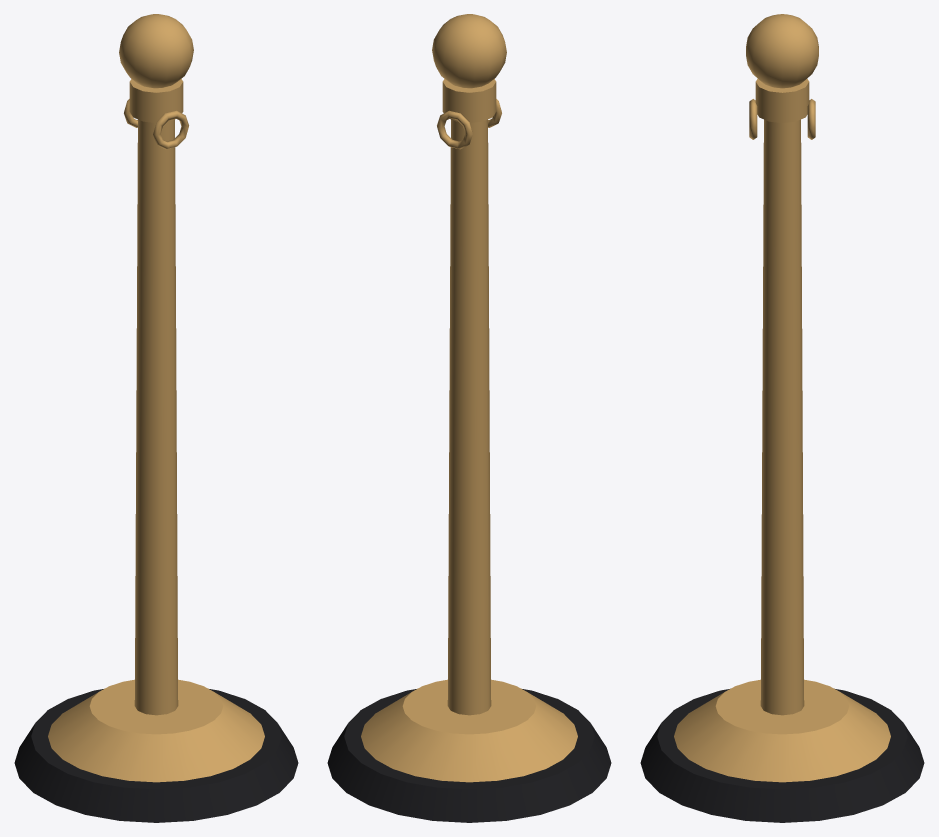
Rendered from stanchion.glb.
3 views of the same model, side by side, from view 1: azimuth 30°, elevation 25°; view 2: azimuth 150°, elevation 25°; view 3: azimuth 270°, elevation 25° (orthographic).
Visible parts, largest first — view 1: Mesh_Post, Mesh_BaseCap, Mesh_Base, Mesh_Ball, Mesh_Collar, Mesh_Hook1; view 2: Mesh_Post, Mesh_BaseCap, Mesh_Base, Mesh_Ball, Mesh_Collar, Mesh_Hook-1; view 3: Mesh_Post, Mesh_BaseCap, Mesh_Base, Mesh_Ball, Mesh_Collar.
Boxes of the visible parts, box(x1,y1,x2,y2) form: Mesh_Post: box(134, 119, 178, 715); Mesh_BaseCap: box(48, 679, 264, 782); Mesh_Base: box(14, 689, 298, 822); Mesh_Ball: box(119, 14, 193, 88); Mesh_Collar: box(129, 79, 183, 122); Mesh_Hook1: box(153, 110, 188, 149); Mesh_Post: box(447, 119, 491, 715); Mesh_BaseCap: box(361, 679, 577, 782); Mesh_Base: box(327, 689, 611, 822); Mesh_Ball: box(432, 14, 506, 88); Mesh_Collar: box(442, 79, 496, 122); Mesh_Hook-1: box(437, 110, 472, 149); Mesh_Post: box(760, 119, 804, 715); Mesh_BaseCap: box(674, 679, 890, 782); Mesh_Base: box(640, 688, 924, 822); Mesh_Ball: box(746, 14, 818, 88); Mesh_Collar: box(755, 79, 809, 122).
Bounding box in the file's own units: 0.34 × 0.985 × 0.34.
